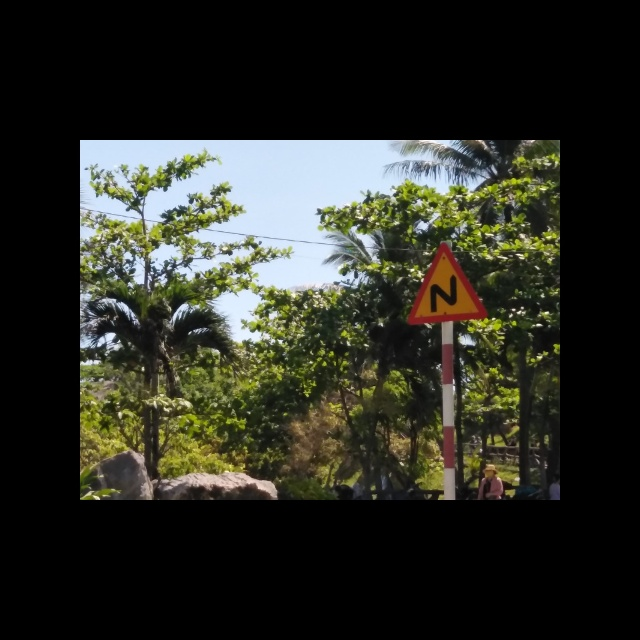Ngoặt nguy hiểm liên tiếp bên phải: (407, 241, 488, 327)
